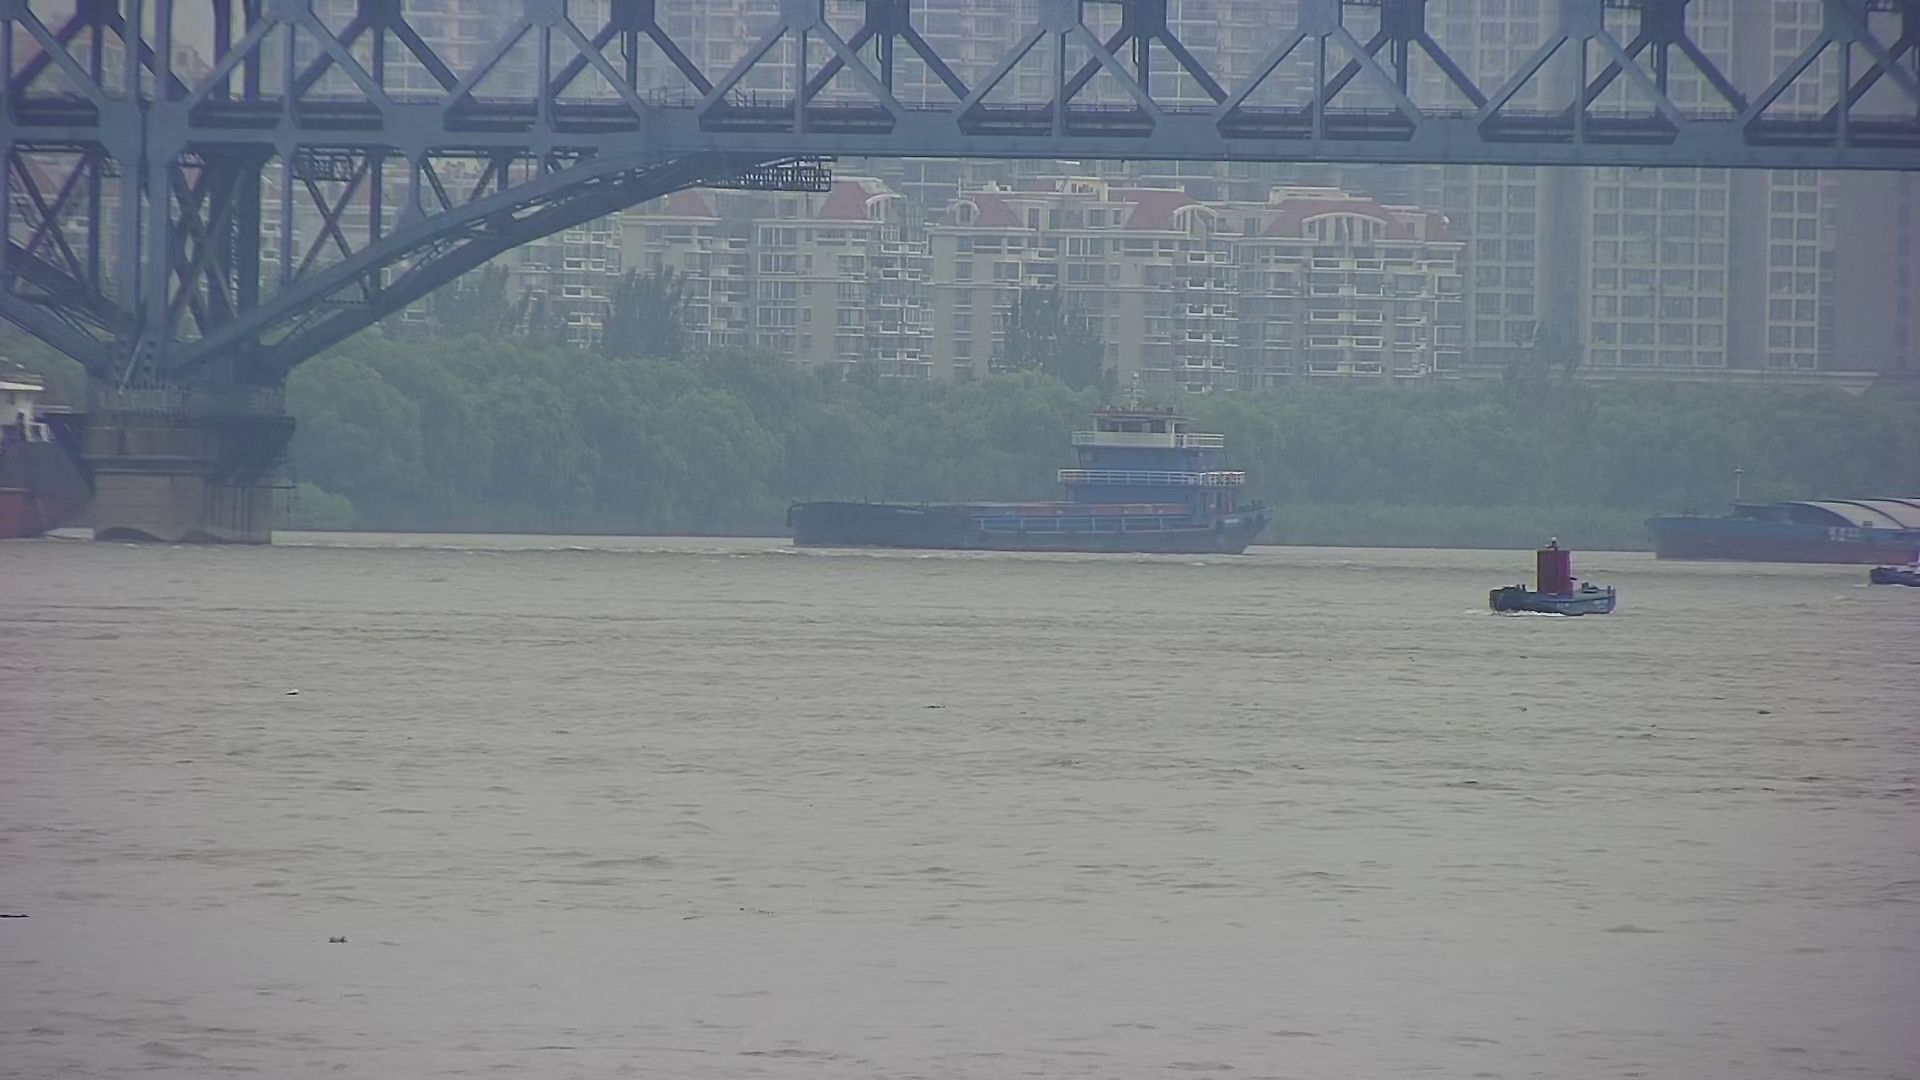boat: (1484, 538, 1615, 622)
bridge: (8, 4, 1913, 411)
ship: (789, 400, 1287, 563), (1635, 514, 1915, 572)
